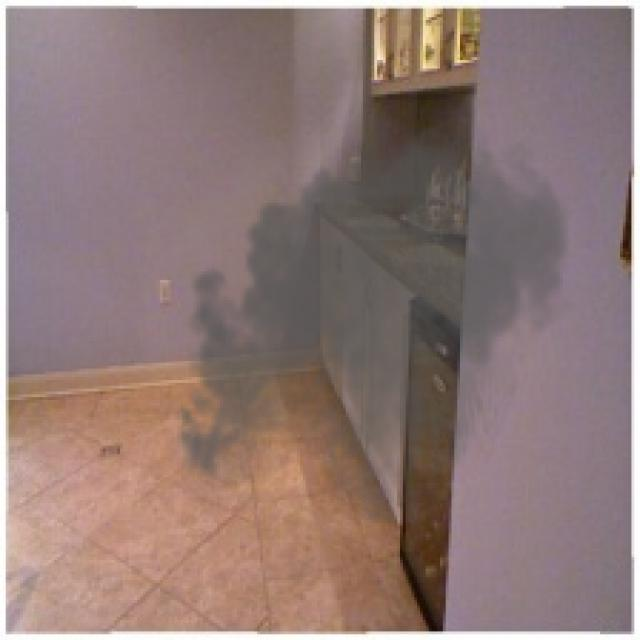smoke: (163, 106, 577, 523)
